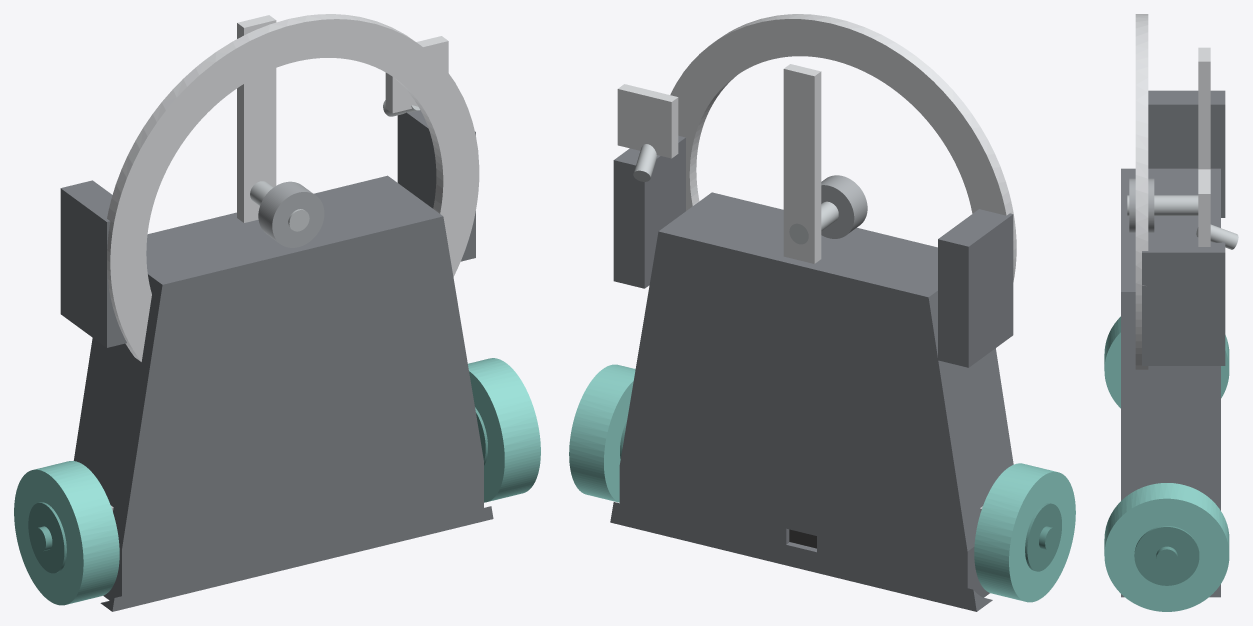
The model's file is the_undertaker.glb.
The picture shows the model from 3 angles, left to right: view 1: azimuth 30°, elevation 25°; view 2: azimuth 150°, elevation 25°; view 3: azimuth 270°, elevation 25°; orthographic projection. The views are drawn at different scales.
Parts seen in each view (by area): view 1: chassis, weapon, wheel_r0, leg_r, wheel_l0, spoke, leg_l, dt_hubw_weapon, dt_hub_wheel_r0, tooth, dt_shaft_weapon; view 2: chassis, weapon, leg_r, wheel_r0, leg_l, spoke, wheel_l0, tooth, dt_hubw_weapon, dt_hub_wheel_r0, dt_shaft_weapon; view 3: chassis, leg_l, wheel_l0, leg_r, weapon, dt_hub_wheel_l0, spoke, wheel_r0, tooth, dt_shaft_weapon, dt_hubw_weapon, dt_strut_tooth.
Boxes of the visible parts, <box> form: chassis: <box>73,175,493,611</box>; weapon: <box>107,14,479,361</box>; wheel_r0: <box>14,461,119,605</box>; leg_r: <box>60,180,126,347</box>; wheel_l0: <box>468,358,540,502</box>; spoke: <box>237,15,276,222</box>; leg_l: <box>397,110,475,261</box>; dt_hubw_weapon: <box>258,181,324,247</box>; dt_hub_wheel_r0: <box>28,502,66,573</box>; tooth: <box>385,36,448,113</box>; dt_shaft_weapon: <box>250,181,309,231</box>; chassis: <box>610,192,1013,611</box>; weapon: <box>670,14,1016,281</box>; leg_r: <box>938,209,1013,367</box>; wheel_r0: <box>974,463,1075,602</box>; leg_l: <box>613,135,685,288</box>; spoke: <box>783,64,821,263</box>; wheel_l0: <box>569,364,635,502</box>; tooth: <box>617,84,678,158</box>; dt_hubw_weapon: <box>821,175,867,238</box>; dt_hub_wheel_r0: <box>1025,503,1061,571</box>; dt_shaft_weapon: <box>789,201,838,244</box>; chassis: <box>1121,168,1220,597</box>; leg_l: <box>1142,238,1225,365</box>; wheel_l0: <box>1104,483,1229,611</box>; leg_r: <box>1148,90,1225,217</box>; weapon: <box>1135,14,1148,369</box>; dt_hub_wheel_l0: <box>1134,526,1199,585</box>; spoke: <box>1198,47,1210,169</box>; wheel_r0: <box>1104,316,1229,408</box>; tooth: <box>1198,169,1210,246</box>; dt_shaft_weapon: <box>1127,195,1198,215</box>; dt_hubw_weapon: <box>1129,178,1154,232</box>; dt_strut_tooth: <box>1196,224,1238,249</box>.
Size of the model in its own units: 118 by 128 by 32.17.
